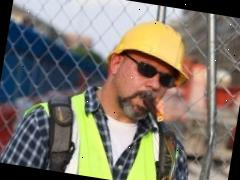helmet: (102, 12, 198, 82)
wear: (21, 95, 203, 180)
